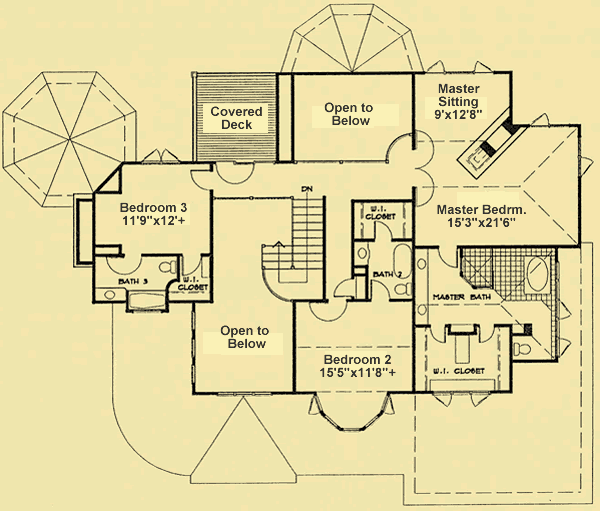bathroom has a walk in closet with bathtub, small and large sink: (90, 254, 214, 314), (348, 197, 414, 303)
master bathroom has a walk in closet with bathtub, dual small sink and large sin: (412, 245, 561, 398)
